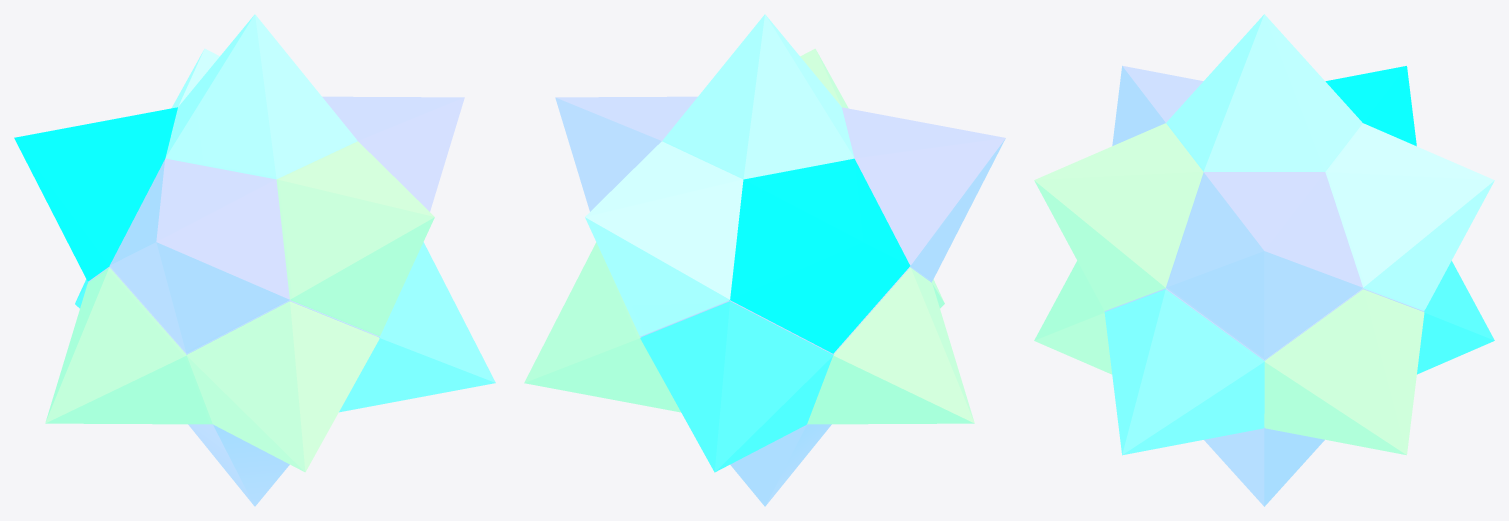
The model's file is star1.glb.
3 views of the same model, side by side, from view 1: azimuth 30°, elevation 25°; view 2: azimuth 150°, elevation 25°; view 3: azimuth 270°, elevation 25° (orthographic).
Parts seen in each view (by area): view 1: Mesh_Mesh_head_geo.001_lambert2SG.001_0; view 2: Mesh_Mesh_head_geo.001_lambert2SG.001_0; view 3: Mesh_Mesh_head_geo.001_lambert2SG.001_0.
Boxes of the visible parts, x1=… form: Mesh_Mesh_head_geo.001_lambert2SG.001_0: x1=14, y1=14, x2=495, y2=506; Mesh_Mesh_head_geo.001_lambert2SG.001_0: x1=524, y1=14, x2=1005, y2=506; Mesh_Mesh_head_geo.001_lambert2SG.001_0: x1=1034, y1=14, x2=1494, y2=506.
Bounding box in the file's own units: 21.38 × 24 × 20.34.
